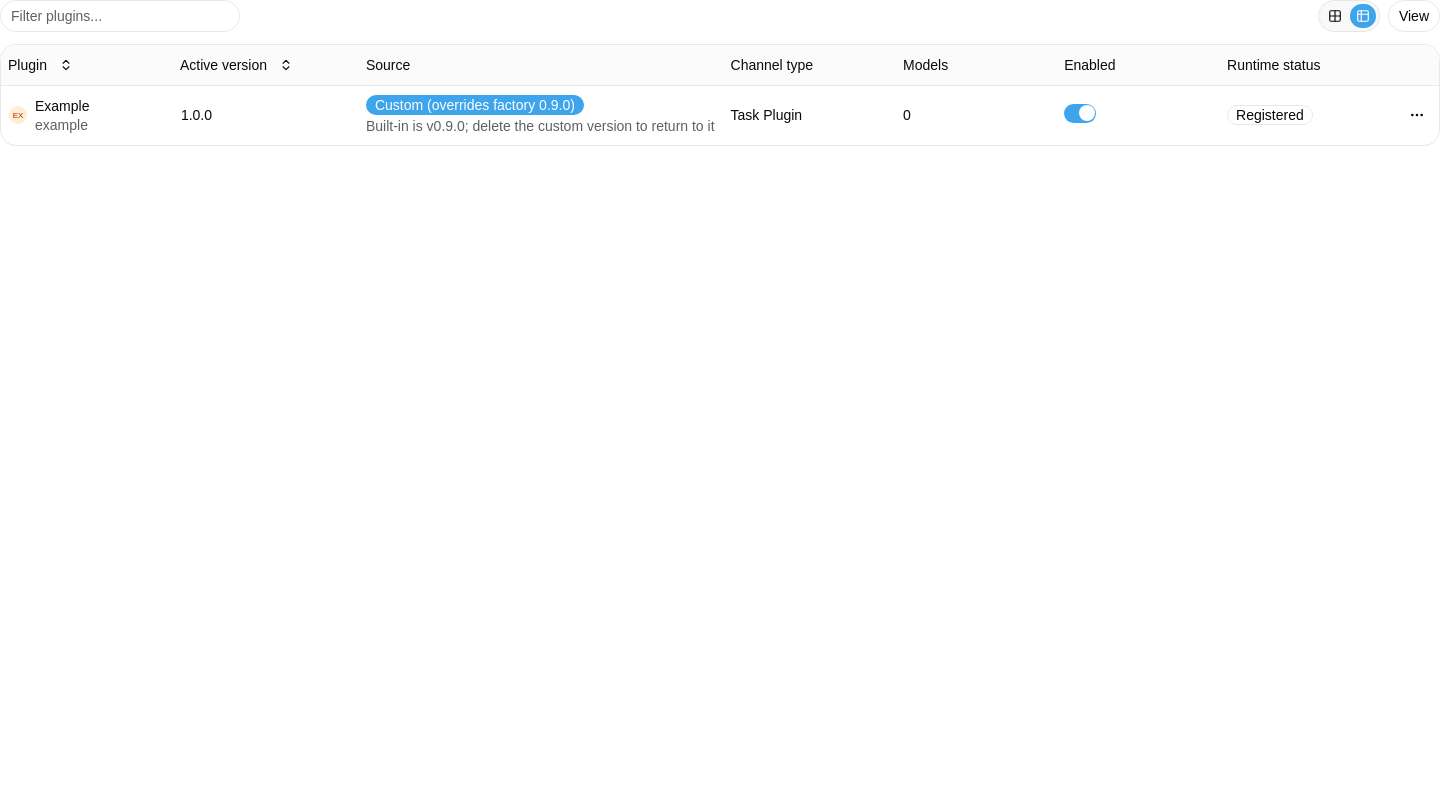
Test: deleting the active custom version lists what the version taking over cannot charge
The width and height of the screenshot is (1440, 810).
Click the button named "Open menu": (1417, 115) x1=1403 y1=101 x2=1431 y2=129
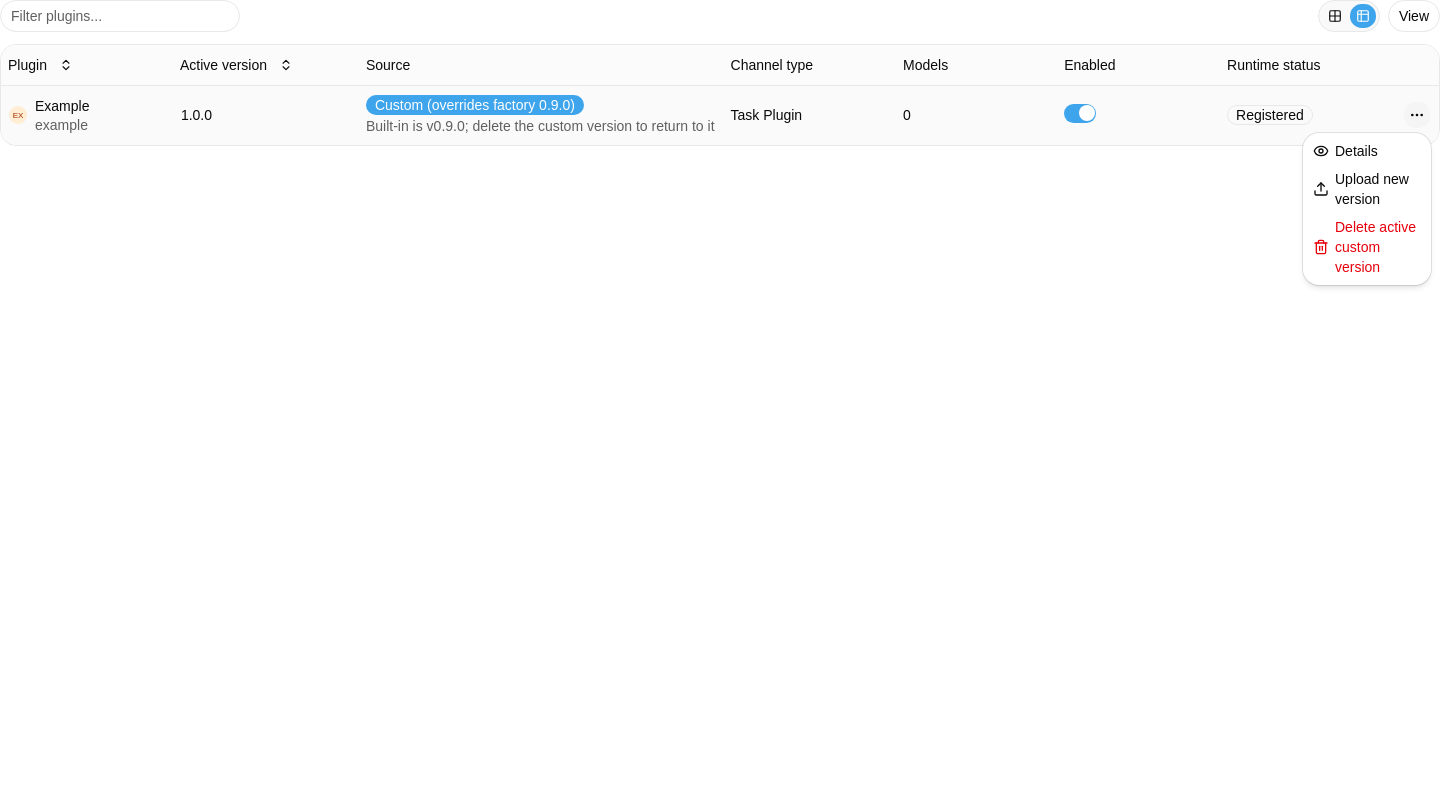
Click the menu item "Delete active custom version": (1367, 247) x1=1307 y1=213 x2=1427 y2=281
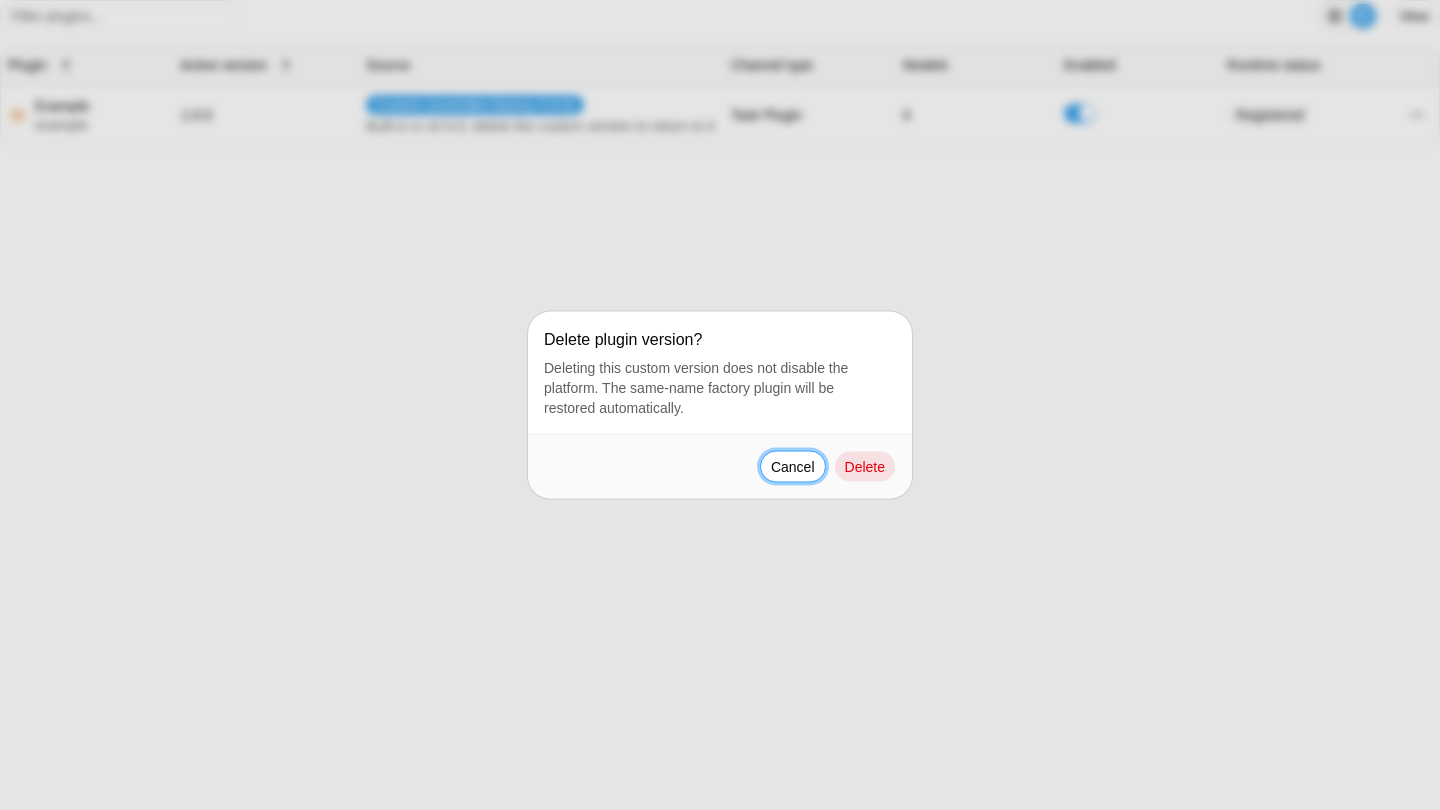
Click the button "Delete": (865, 466) x1=834 y1=450 x2=896 y2=482
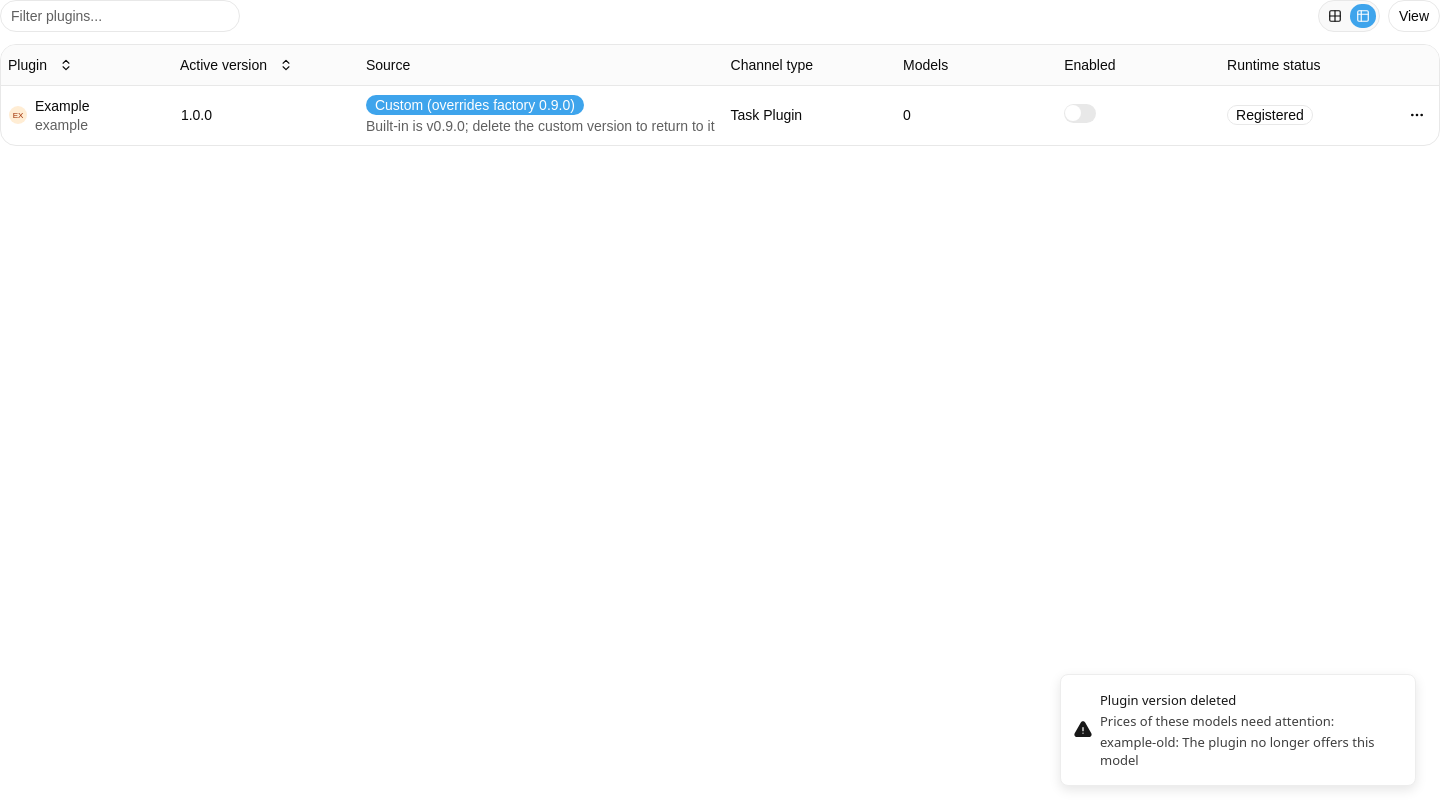
Now the text "Plugin version deleted" is shown, box x1=1100 y1=691 x2=1236 y2=709
Now the list item "example-old: The plugin no longer offers this model" is shown, box x1=1100 y1=733 x2=1399 y2=769
